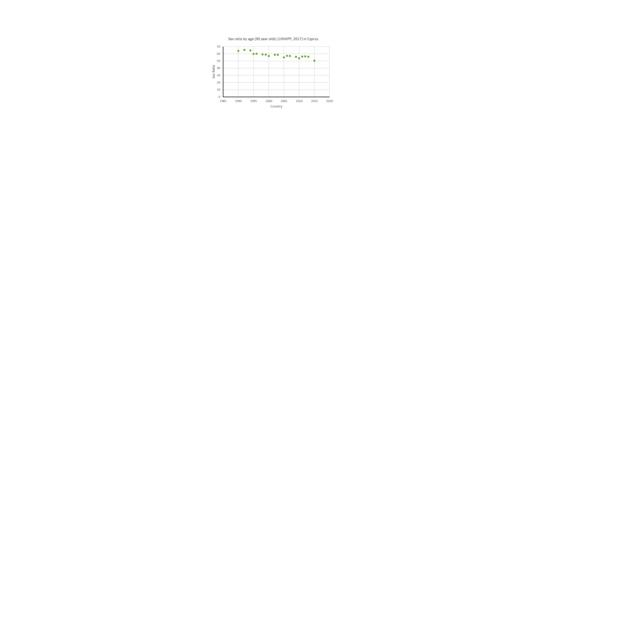Graph: (209, 35, 335, 109)
